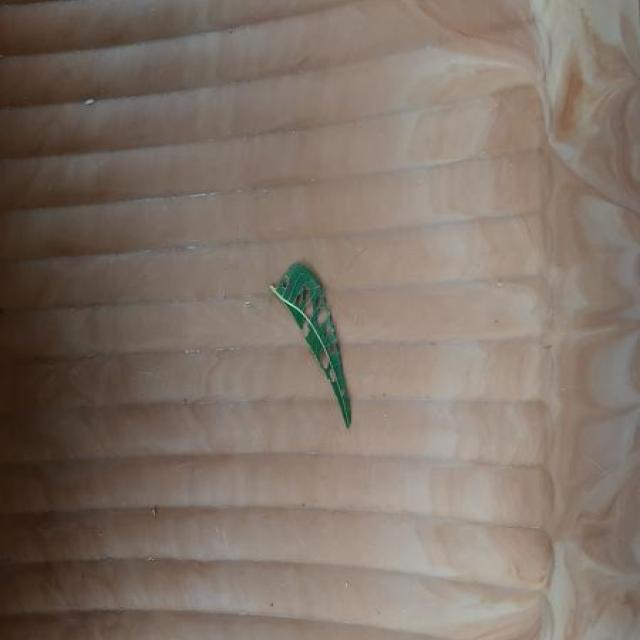neem: (270, 262, 352, 427)
